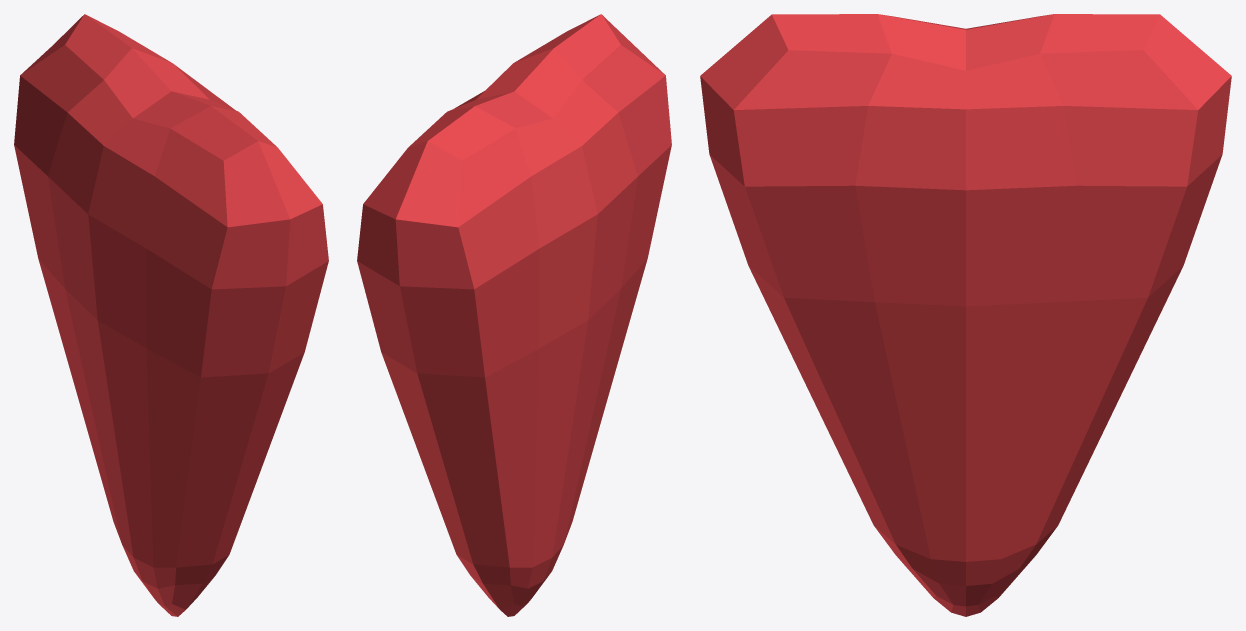
The model's file is HoopArrow.fbx.
The picture shows the model from 3 angles, left to right: view 1: azimuth 30°, elevation 25°; view 2: azimuth 150°, elevation 25°; view 3: azimuth 270°, elevation 25°; orthographic projection. The views are drawn at different scales.
Parts seen in each view (by area): view 1: Cube; view 2: Cube; view 3: Cube.
Boxes of the visible parts, x1,y1,x2,y2 form: Cube: (14,14,328,616); Cube: (357,14,671,616); Cube: (700,14,1231,616).
Bounding box in the file's own units: 99.08 × 306 × 245.
